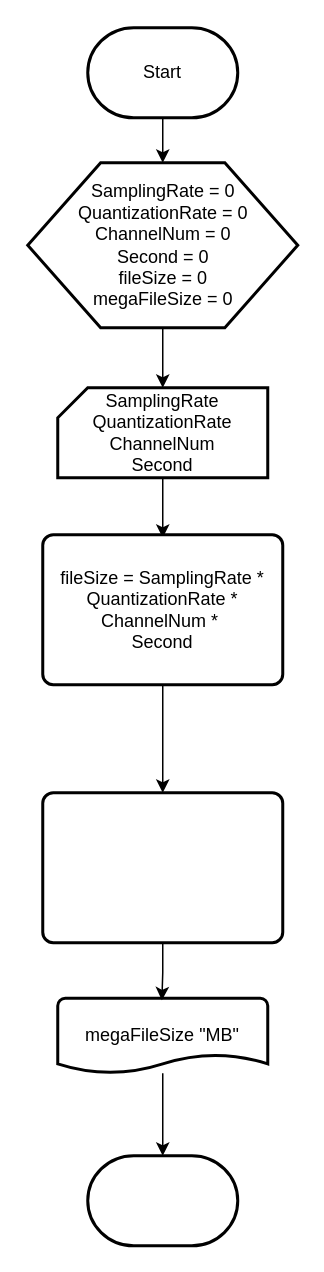
This 324x1272 diagram has some shape labels left out. The shapes that lost their labels are listed below. From the top down, each one's centre as x and y in pixels, then its label:
At point (162, 867): "megaFileSize = fileSize / 8 / 1024^2".
At point (162, 1200): "End".
